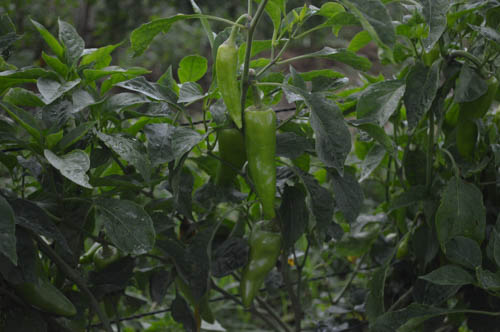ChiliPepper: (246, 108, 277, 215), (245, 223, 281, 305), (214, 44, 246, 127), (214, 129, 247, 188)
